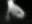person: (6, 1, 27, 23)
